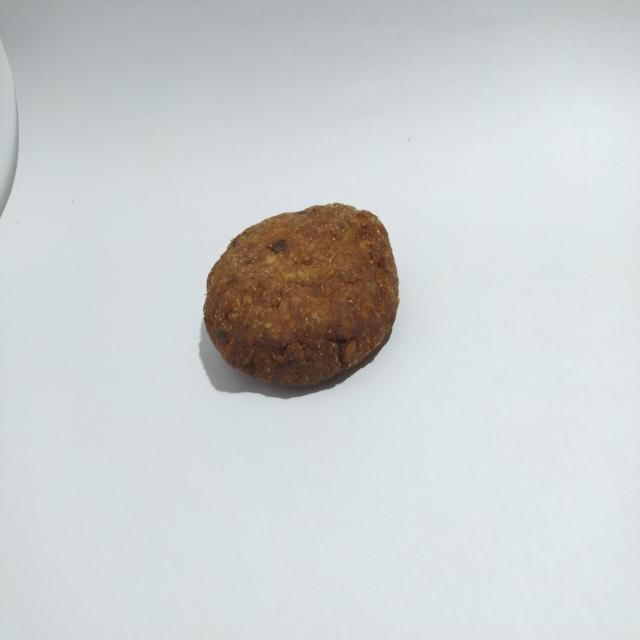Food: (194, 198, 406, 401)
